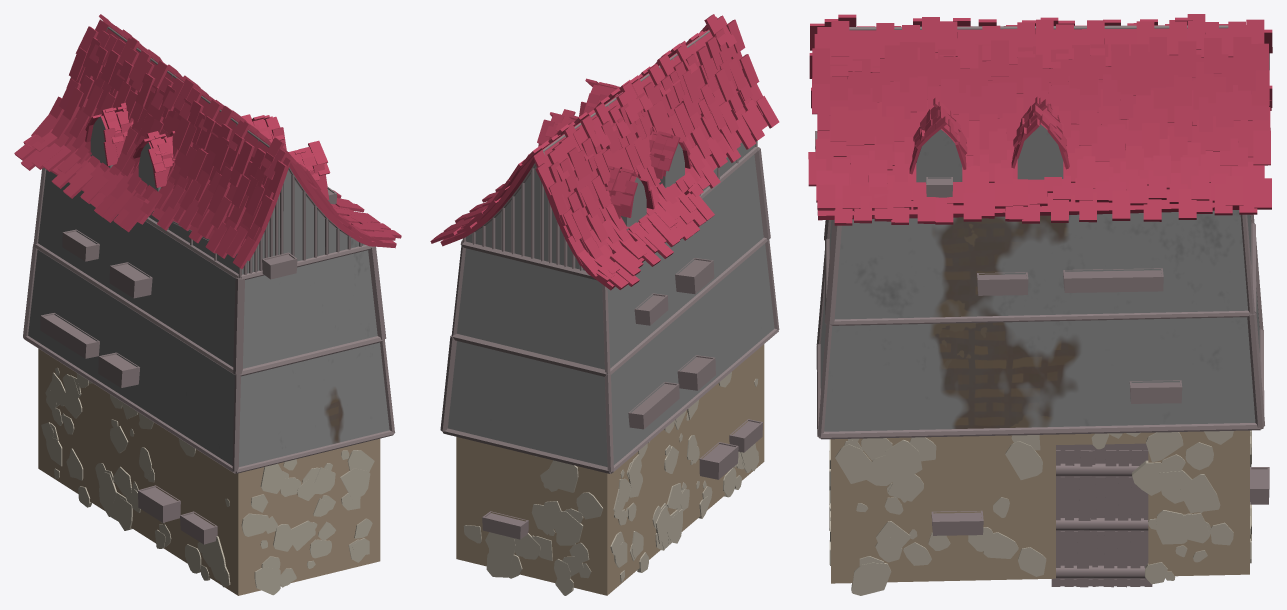
Rendered from HouseOne_Phase4.glb.
3 renders of one model, left to right at view 1: azimuth 30°, elevation 25°; view 2: azimuth 150°, elevation 25°; view 3: azimuth 270°, elevation 25°, orthographic. The views are drawn at different scales.
Parts seen in each view (by area): view 1: HouseOne_Phase4; view 2: HouseOne_Phase4; view 3: HouseOne_Phase4.
Part boxes in pixels (x1,y1,x2,y2): HouseOne_Phase4: (14, 14, 401, 595); HouseOne_Phase4: (430, 14, 779, 595); HouseOne_Phase4: (808, 14, 1272, 595).
Size of the model in its own units: 3.93 by 8.15 by 6.49.
5 materials, 1 textured.
